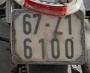0: (49, 37, 62, 61), (64, 36, 76, 61)
1: (66, 13, 76, 35), (38, 38, 47, 60)
6: (21, 36, 35, 60), (21, 13, 32, 34)
7: (32, 12, 44, 35)
Z: (53, 12, 64, 36)
